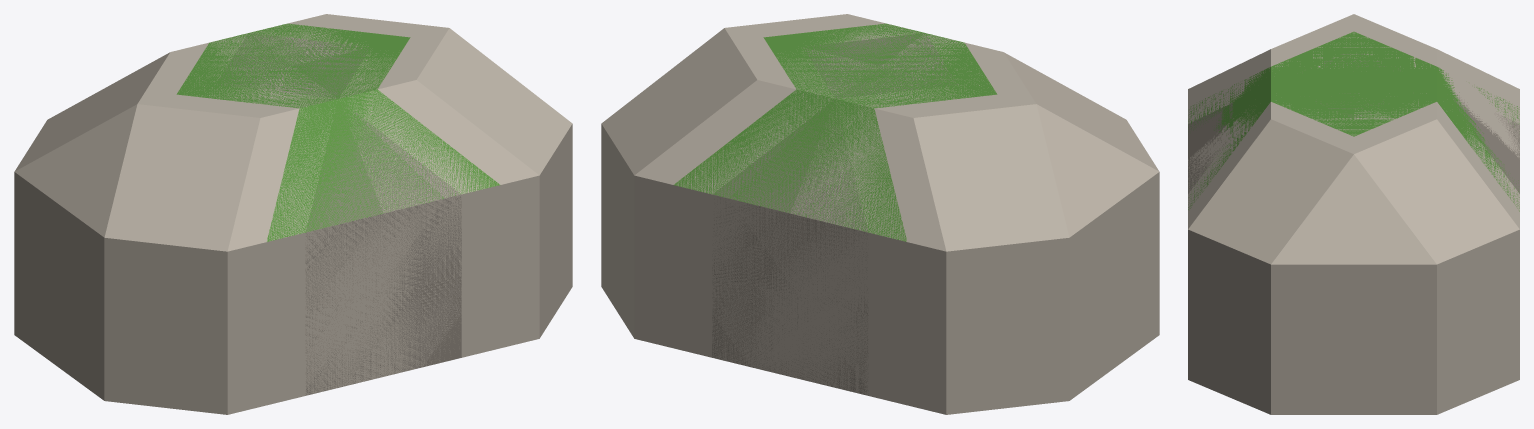
Rendered from cobbles.fbx.
The picture shows the model from 3 angles, left to right: view 1: azimuth 30°, elevation 25°; view 2: azimuth 150°, elevation 25°; view 3: azimuth 270°, elevation 25°; orthographic projection. The views are drawn at different scales.
Parts seen in each view (by area): view 1: CobbleE, CobbleA, CobbleC, CobbleB; view 2: CobbleE, CobbleA, CobbleC, CobbleB; view 3: CobbleE, CobbleC, CobbleA, CobbleB.
Boxes of the visible parts, x1,y1,x2,y2 form: CobbleE: (14,14,572,333); CobbleA: (176,23,500,405); CobbleC: (14,205,572,414); CobbleB: (219,33,461,395); CobbleE: (601,14,1159,333); CobbleA: (673,23,997,404); CobbleC: (601,205,1159,414); CobbleB: (712,33,957,395); CobbleE: (1188,14,1519,339); CobbleC: (1188,305,1519,414); CobbleA: (1188,31,1519,211); CobbleB: (1188,53,1519,193).
Size of the model in its own units: 60 by 30 by 40.
